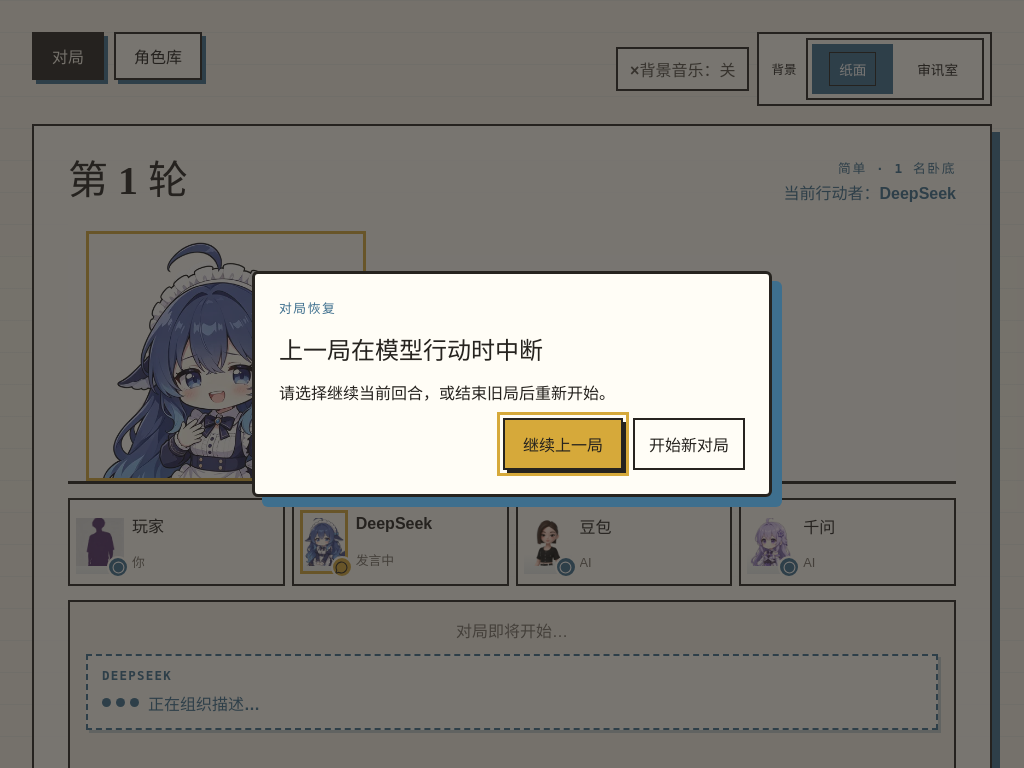
Scenario: App › 中断恢复选择开始新局后回到经典模式入口
The width and height of the screenshot is (1024, 768).
Click the button "开始新对局". click: (689, 444)
box: [633,418,745,470]
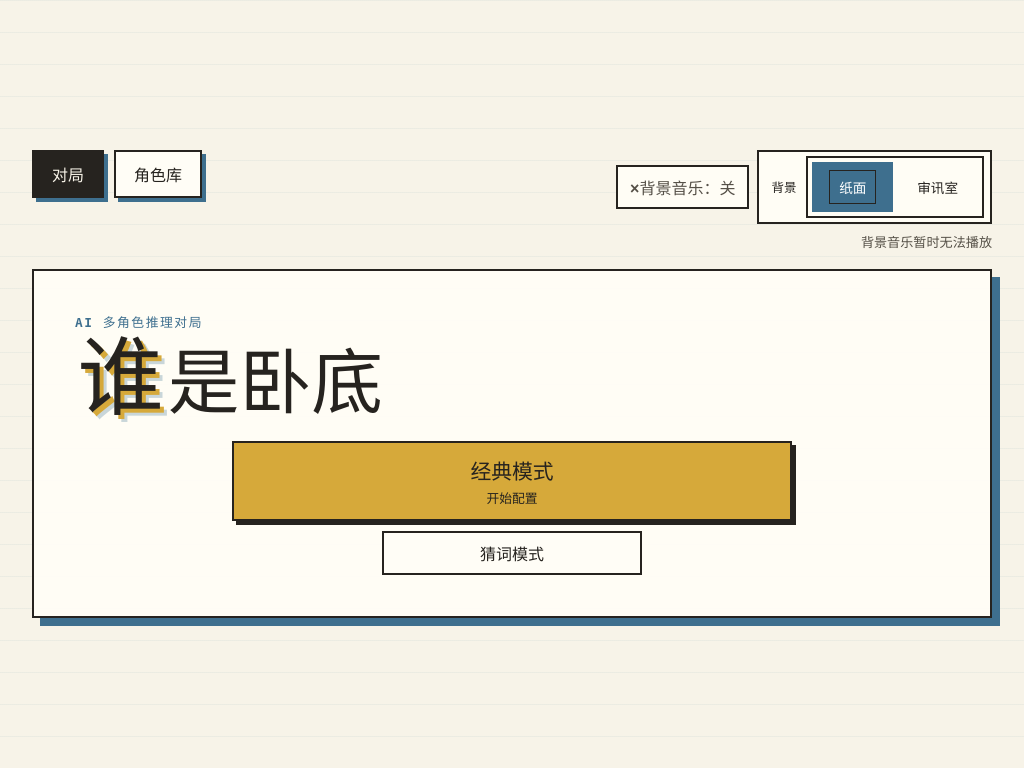
expect the button "经典模式 开始配置" is shown: met, box [232,441,792,521]
